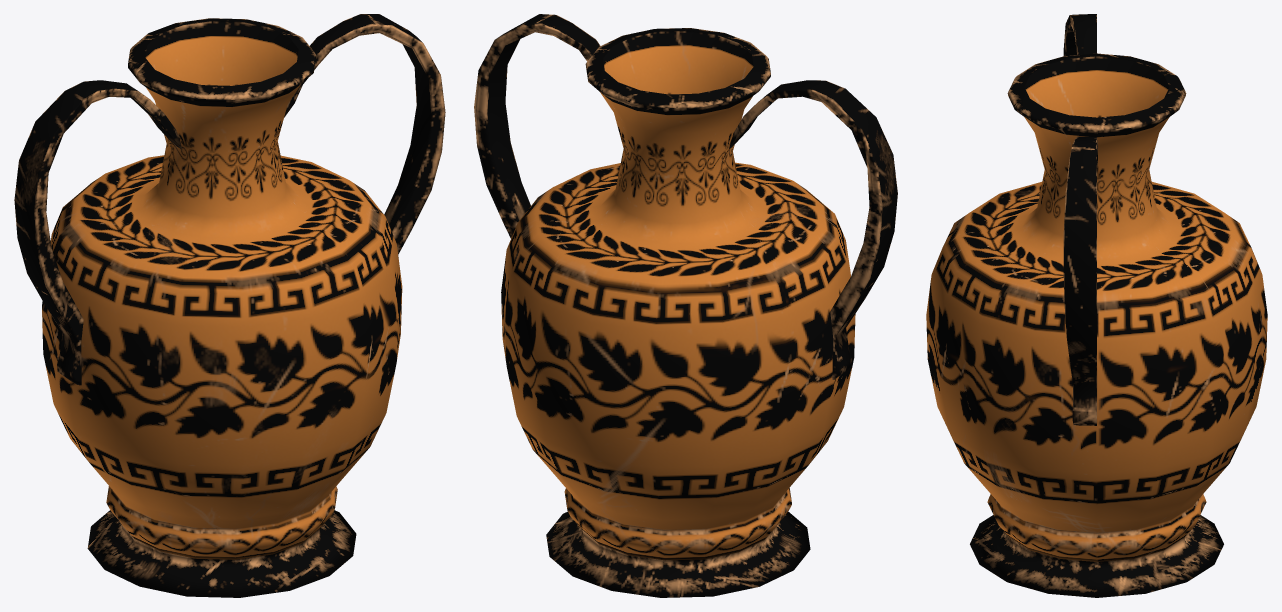
Rendered from asset.gltf.
3 renders of one model, left to right at view 1: azimuth 30°, elevation 25°; view 2: azimuth 150°, elevation 25°; view 3: azimuth 270°, elevation 25°, orthographic. The views are drawn at different scales.
Visible parts, largest first — view 1: body, handels; view 2: body, handels; view 3: body, handels.
Boxes of the visible parts, bbox=[...] form: body: bbox=[42, 18, 402, 597]; handels: bbox=[14, 14, 445, 385]; body: bbox=[501, 28, 855, 597]; handels: bbox=[474, 14, 897, 379]; body: bbox=[926, 53, 1267, 597]; handels: bbox=[1063, 14, 1097, 425].
Size of the model in its own units: 11.46 by 13.26 by 8.7.
Materials: 1 (1 with a texture image).
